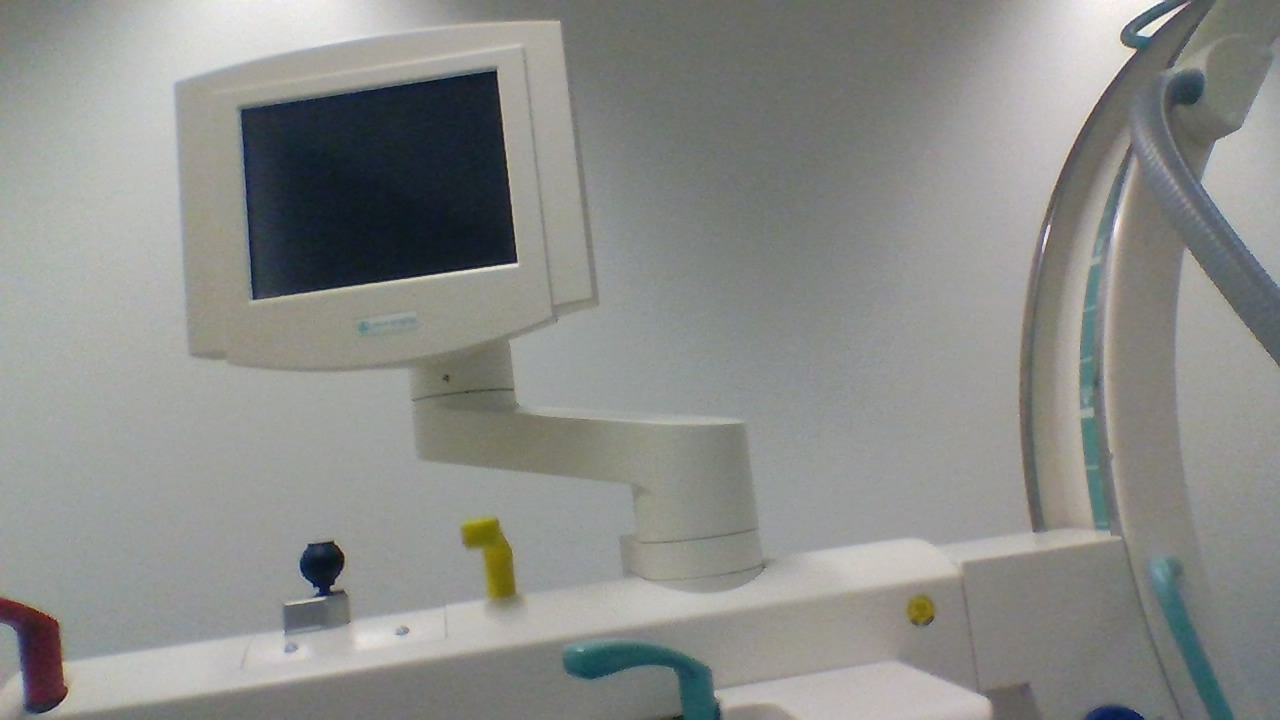carmSCREEN: (173, 20, 596, 367)
